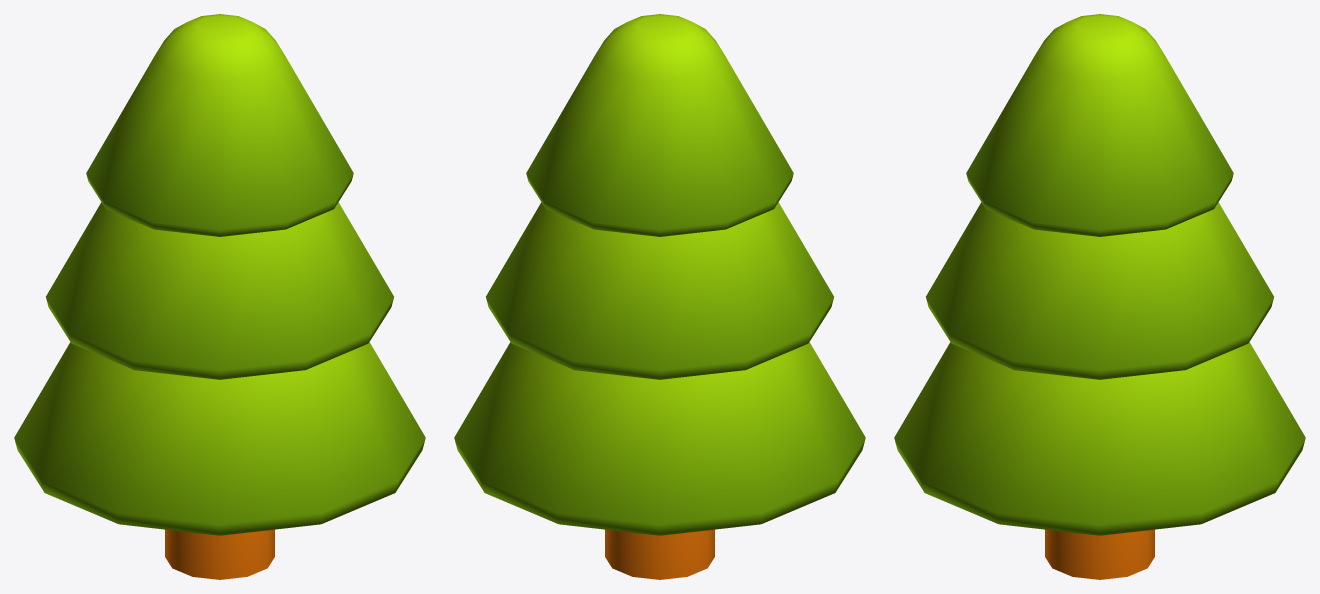
Rendered from Plant_Tree_01.fbx.
3 renders of one model, left to right at view 1: azimuth 30°, elevation 25°; view 2: azimuth 150°, elevation 25°; view 3: azimuth 270°, elevation 25°, orthographic.
Visible parts, largest first — view 1: Plant_Tree_01; view 2: Plant_Tree_01; view 3: Plant_Tree_01.
Part boxes in pixels (bbox=[...]): Plant_Tree_01: bbox=[14, 14, 425, 579]; Plant_Tree_01: bbox=[454, 14, 865, 579]; Plant_Tree_01: bbox=[894, 14, 1305, 579].
Bounding box in the file's own units: 200 × 284 × 200.
